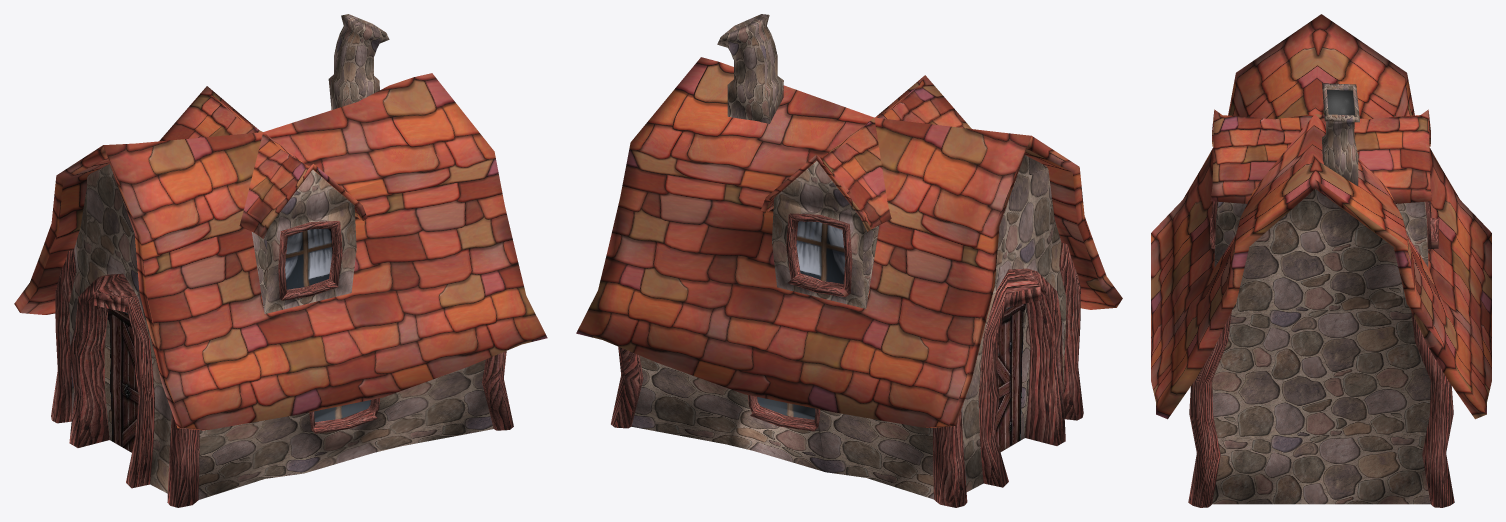
File: house_1_ca.fbx
The picture shows the model from 3 angles, left to right: view 1: azimuth 30°, elevation 25°; view 2: azimuth 150°, elevation 25°; view 3: azimuth 270°, elevation 25°; orthographic projection. The views are drawn at different scales.
Visible parts, largest first — view 1: U3DMesh; view 2: U3DMesh; view 3: U3DMesh.
Boxes of the visible parts, x1,y1,x2,y2 form: U3DMesh: (14,14,547,507); U3DMesh: (576,14,1122,507); U3DMesh: (1151,14,1491,507).
Bounding box in the file's own units: 10.47 × 10.17 × 8.28.
Materials: 8 (7 with a texture image).
